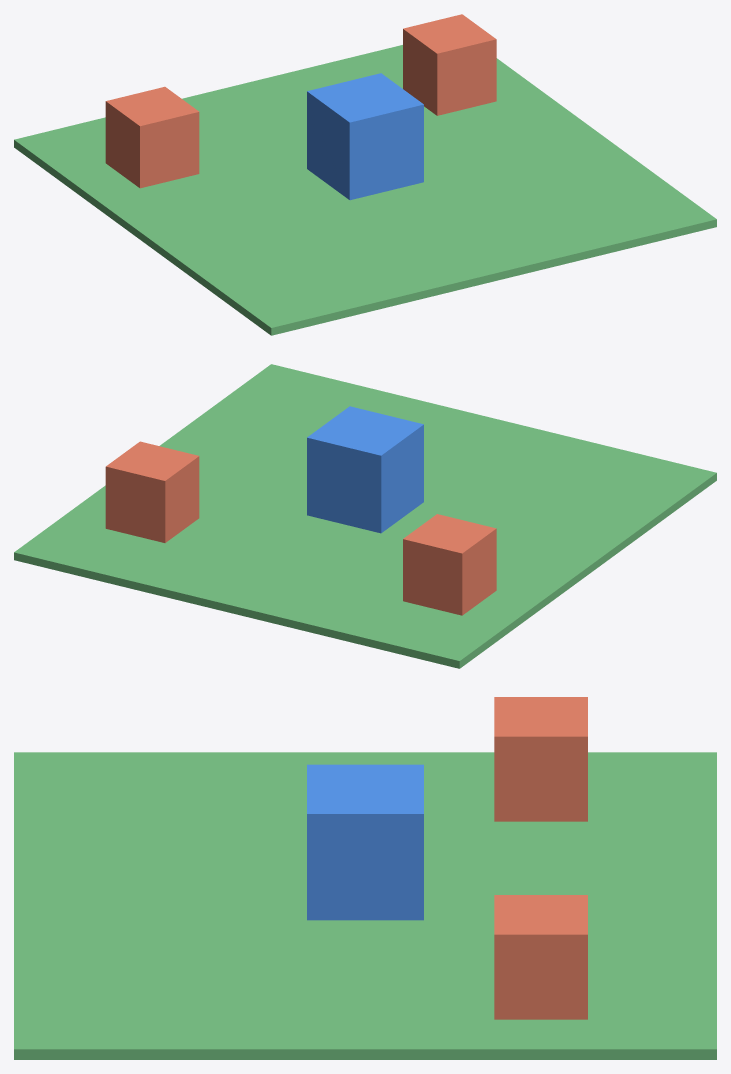
Rendered from smoke_scene.glb.
The picture shows the model from 3 angles, top to bottom: view 1: azimuth 30°, elevation 25°; view 2: azimuth 150°, elevation 25°; view 3: azimuth 270°, elevation 25°; orthographic projection. The views are drawn at different scales.
Visible parts, largest first — view 1: Floor_Test, Player_Test_Cube, Obstacle_Test_1, Obstacle_Test_2; view 2: Floor_Test, Player_Test_Cube, Obstacle_Test_2, Obstacle_Test_1; view 3: Floor_Test, Player_Test_Cube, Obstacle_Test_1, Obstacle_Test_2.
Boxes of the visible parts, x1,y1,x2,y2 form: Floor_Test: [14, 45, 716, 335]; Player_Test_Cube: [307, 73, 423, 200]; Obstacle_Test_1: [105, 86, 199, 188]; Obstacle_Test_2: [403, 14, 496, 115]; Floor_Test: [14, 364, 716, 668]; Player_Test_Cube: [307, 406, 423, 533]; Obstacle_Test_2: [105, 441, 199, 542]; Obstacle_Test_1: [403, 514, 496, 615]; Floor_Test: [14, 752, 716, 1059]; Player_Test_Cube: [307, 764, 423, 920]; Obstacle_Test_1: [494, 697, 587, 821]; Obstacle_Test_2: [494, 895, 587, 1019].
Bounding box in the file's own units: 6 × 1.15 × 6.
